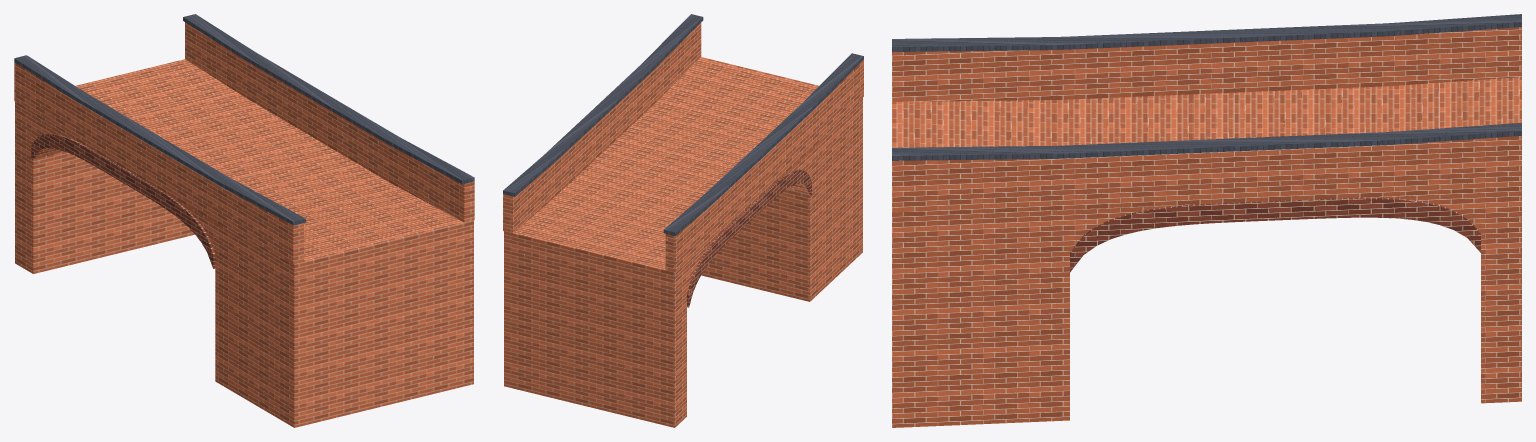
File: bridge-2.glb
3 views of the same model, side by side, from view 1: azimuth 30°, elevation 25°; view 2: azimuth 150°, elevation 25°; view 3: azimuth 270°, elevation 25° (orthographic). The views are drawn at different scales.
Parts seen in each view (by area): view 1: Masonry, Parapet.001, ArchRing; view 2: Masonry, Parapet.001, ArchRing; view 3: Masonry, Parapet.001, ArchRing.
Part boxes in pixels (left/top/right/bottom): Masonry: left=14, top=22, right=474, bottom=427; Parapet.001: left=14, top=14, right=474, bottom=225; ArchRing: left=31, top=133, right=215, bottom=268; Masonry: left=503, top=22, right=863, bottom=427; Parapet.001: left=503, top=14, right=863, bottom=235; ArchRing: left=687, top=169, right=811, bottom=307; Masonry: left=892, top=27, right=1521, bottom=427; Parapet.001: left=892, top=14, right=1521, bottom=160; ArchRing: left=1070, top=197, right=1480, bottom=272.
Size of the model in its own units: 7.42 by 6.59 by 13.8.
3 materials, 3 textured.
